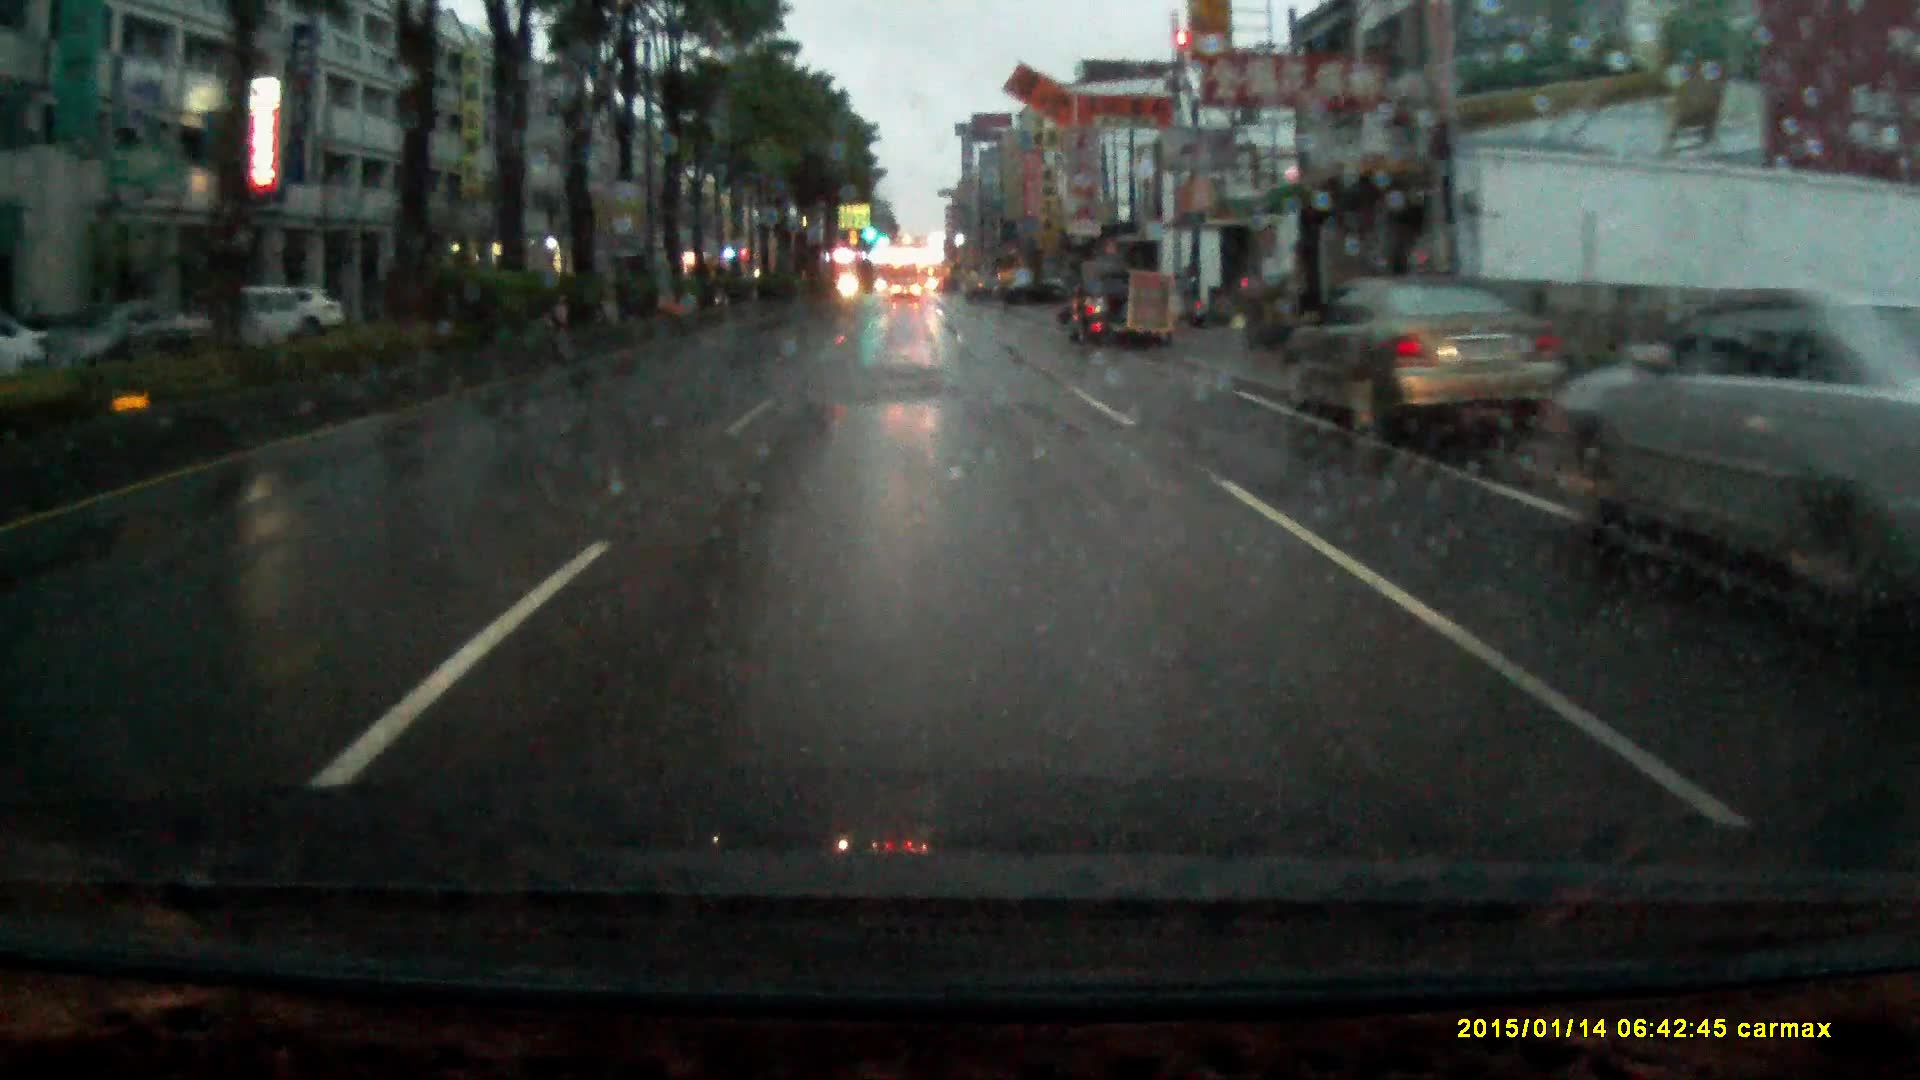vehicle: (1542, 290, 1902, 618), (1284, 276, 1563, 433), (158, 299, 307, 367), (1069, 262, 1167, 355), (891, 281, 920, 303)
